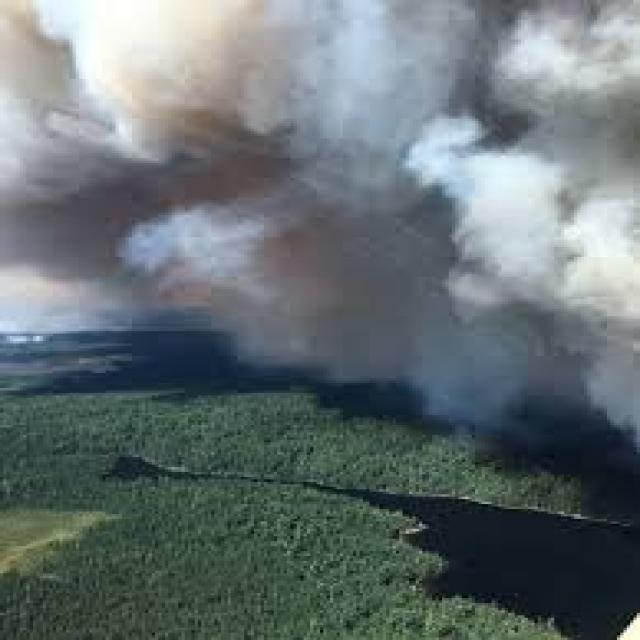Smoke: (0, 0, 638, 460)
